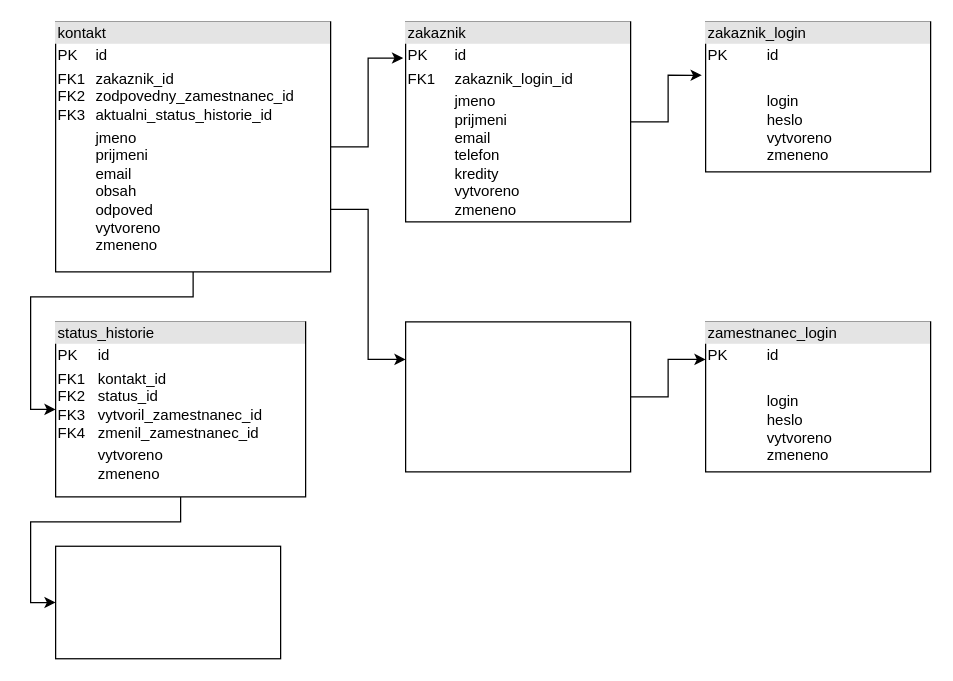
This 953x681 diagram has some shape labels left out. The shapes that lost their labels are listed below. From the top down, each one's centre as x and y in pixels, then its label:
At (517,396): "zamestnanec PK id FK1 zamestnanec_login_id jmeno prijmeni vytvoreno zmeneno".
At (167,602): "status PK id popis".
